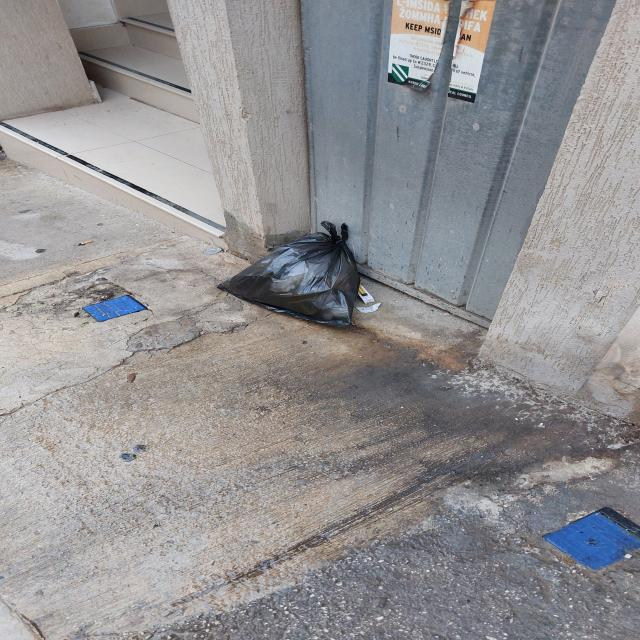Mixed Waste -Black Bag-: (218, 221, 362, 332)
